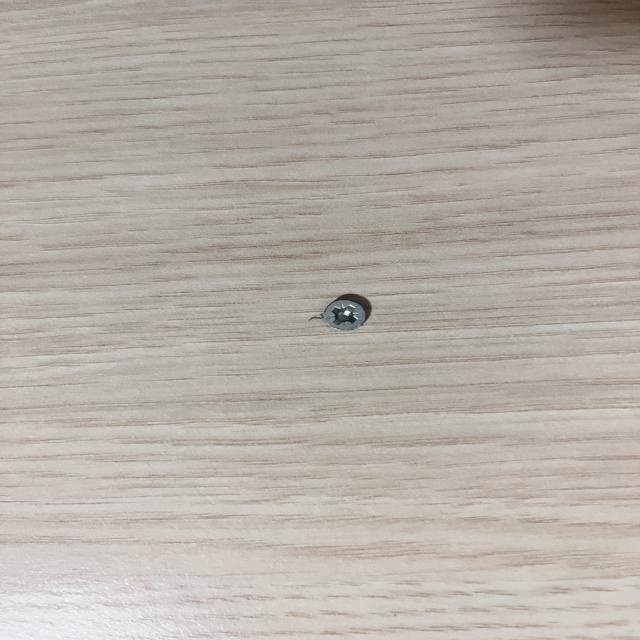pozidriv: (323, 298, 366, 330)
